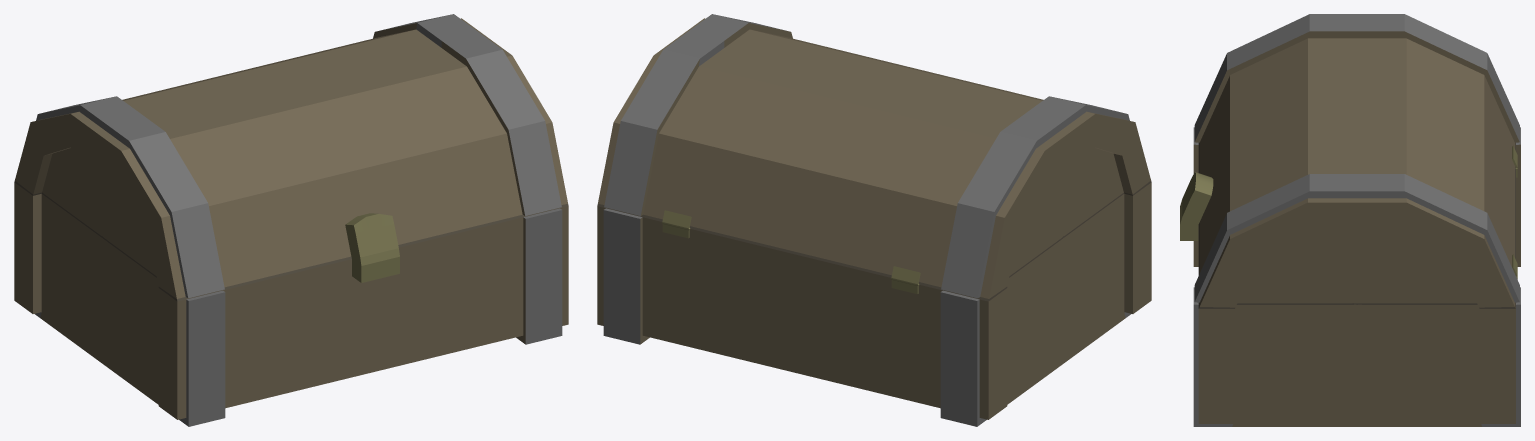
Rendered from TreasureChest.fbx.
3 renders of one model, left to right at view 1: azimuth 30°, elevation 25°; view 2: azimuth 150°, elevation 25°; view 3: azimuth 270°, elevation 25°, orthographic. The views are drawn at different scales.
Parts seen in each view (by area): view 1: pCube7; view 2: pCube7; view 3: pCube7.
Boxes of the visible parts, box(x1,y1,x2,y2) form: pCube7: box(14, 14, 568, 426); pCube7: box(597, 14, 1151, 426); pCube7: box(1180, 14, 1520, 426).
Size of the model in its own units: 23.96 by 14.18 by 18.58.
